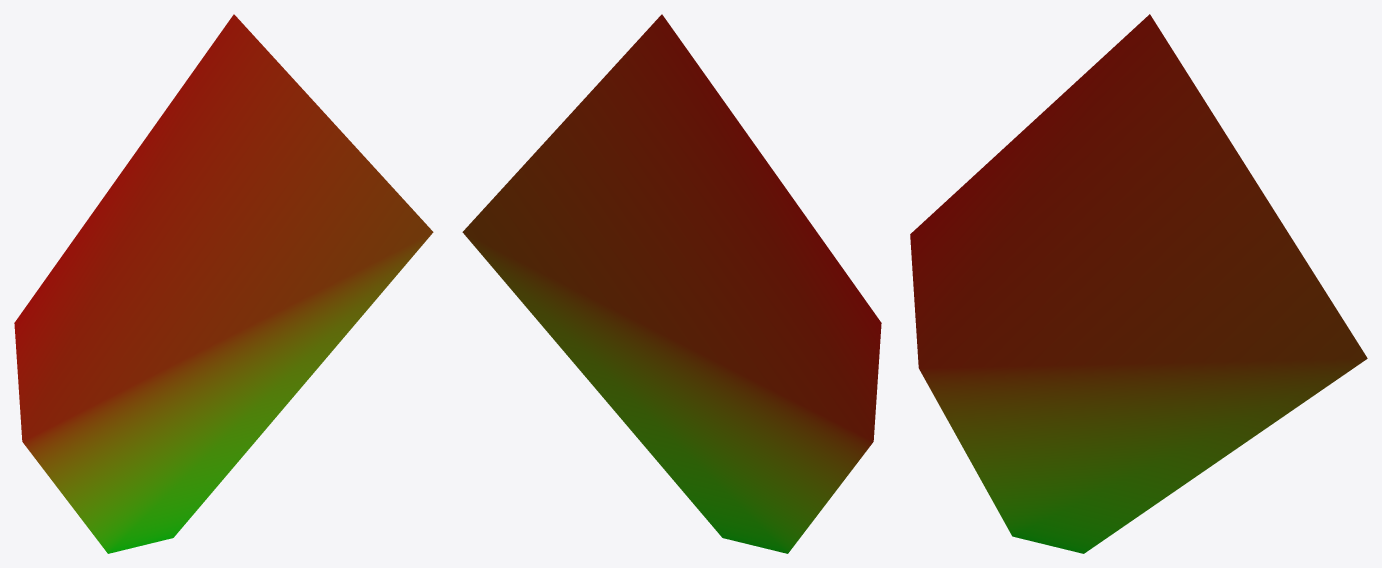
Rendered from Green Herb_LOD3_Var5_tbbpaier.fbx.
3 renders of one model, left to right at view 1: azimuth 30°, elevation 25°; view 2: azimuth 150°, elevation 25°; view 3: azimuth 330°, elevation 25°, orthographic. The views are drawn at different scales.
Visible parts, largest first — view 1: _c234_Var5_LOD3; view 2: _c234_Var5_LOD3; view 3: _c234_Var5_LOD3.
Boxes of the visible parts, x1,y1,x2,y2 form: _c234_Var5_LOD3: (14,14,433,553); _c234_Var5_LOD3: (462,14,881,553); _c234_Var5_LOD3: (910,14,1367,553).
Size of the model in its own units: 11.88 by 13.79 by 1.25e-06.
